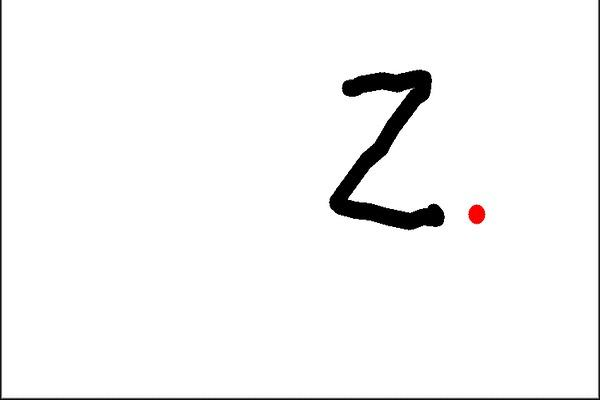Z: (323, 64, 452, 233)
